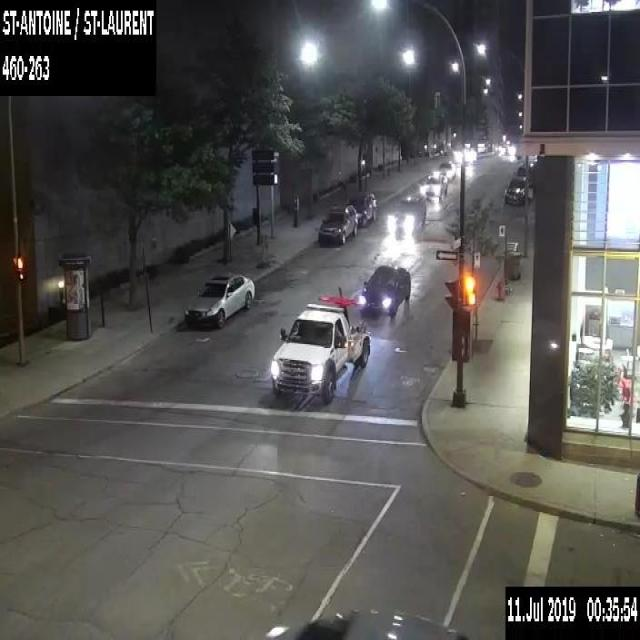vehicle: (270, 284, 370, 404), (231, 609, 467, 639), (183, 270, 255, 330), (358, 264, 410, 317), (317, 202, 357, 244), (388, 192, 425, 232), (347, 190, 378, 226), (504, 175, 530, 203), (422, 172, 447, 198), (436, 160, 455, 181), (517, 160, 534, 176), (500, 142, 512, 155)
